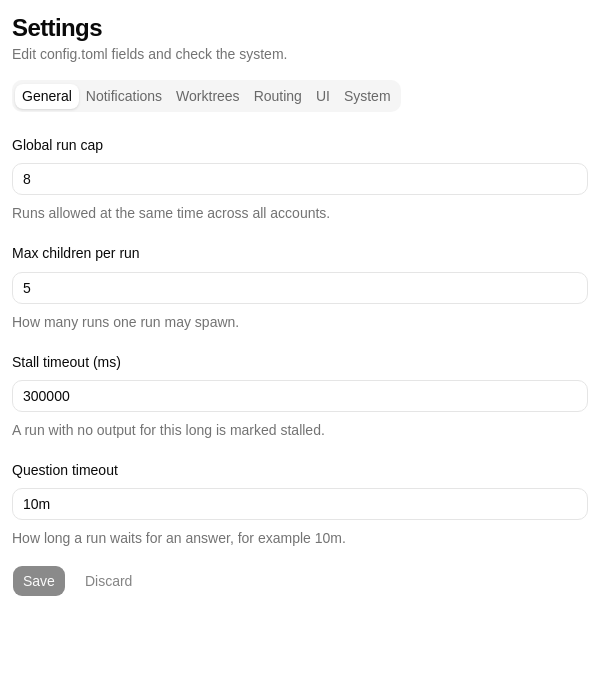
SettingsPage config › validates before sending
Replace the text in the number field labelled "Global run cap" with "0" at (300,179), box [12, 163, 588, 195]
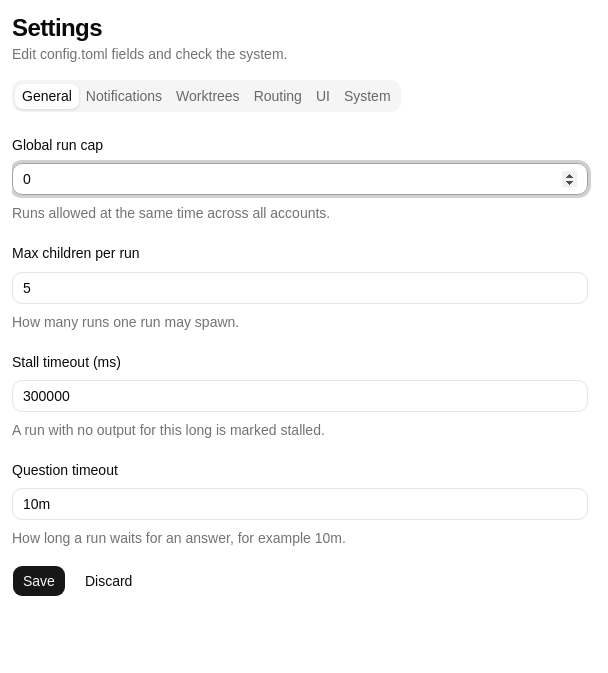
Click the button "Save" at (39,581), box [12, 565, 66, 597]
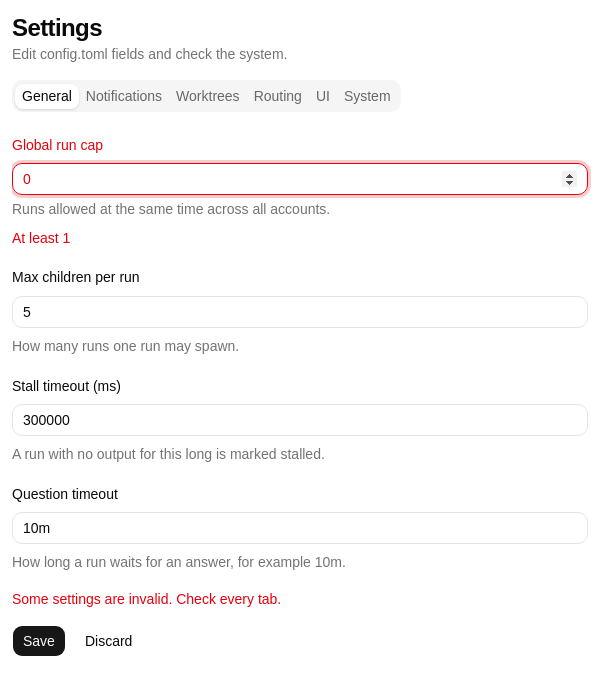
Result: the text "At least 1" is shown at [12, 230, 70, 246]
